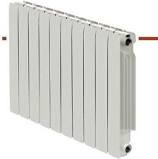Radiator: (8, 1, 138, 159)
